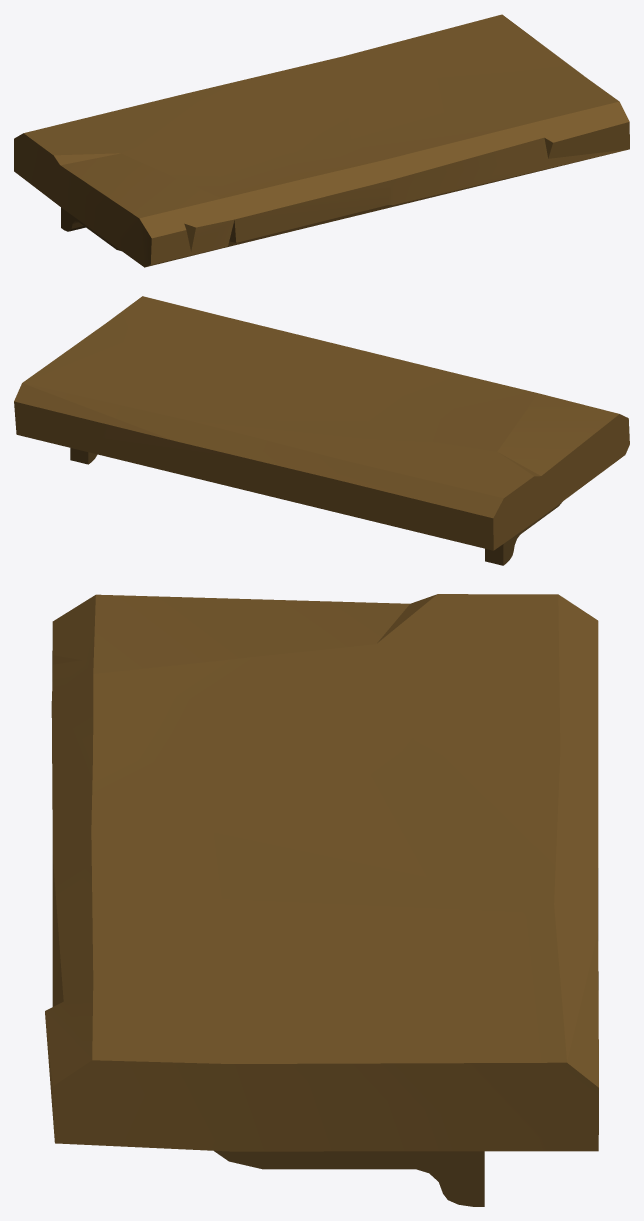
File: Shelf.fbx
The picture shows the model from 3 angles, top to bottom: view 1: azimuth 30°, elevation 25°; view 2: azimuth 150°, elevation 25°; view 3: azimuth 270°, elevation 25°; orthographic projection. The views are drawn at different scales.
Visible parts, largest first — view 1: Shelf; view 2: Shelf; view 3: Shelf.
Boxes of the visible parts, box(x1,y1,x2,y2) form: Shelf: box(14, 14, 629, 267); Shelf: box(14, 296, 629, 565); Shelf: box(45, 594, 598, 1206).
Size of the model in its own units: 101 by 17.3 by 50.41.
